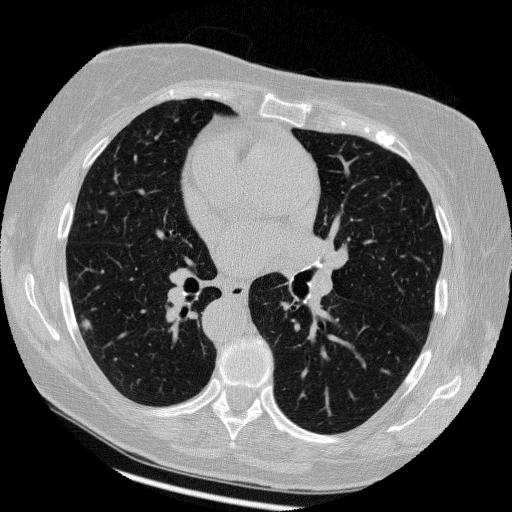nodule: (79, 316, 99, 336)
